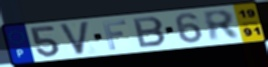5: (28, 25, 61, 58)
6: (173, 12, 205, 45)
B: (131, 16, 169, 49)
F: (101, 19, 129, 51)
R: (201, 9, 243, 43)
V: (57, 20, 91, 57)
